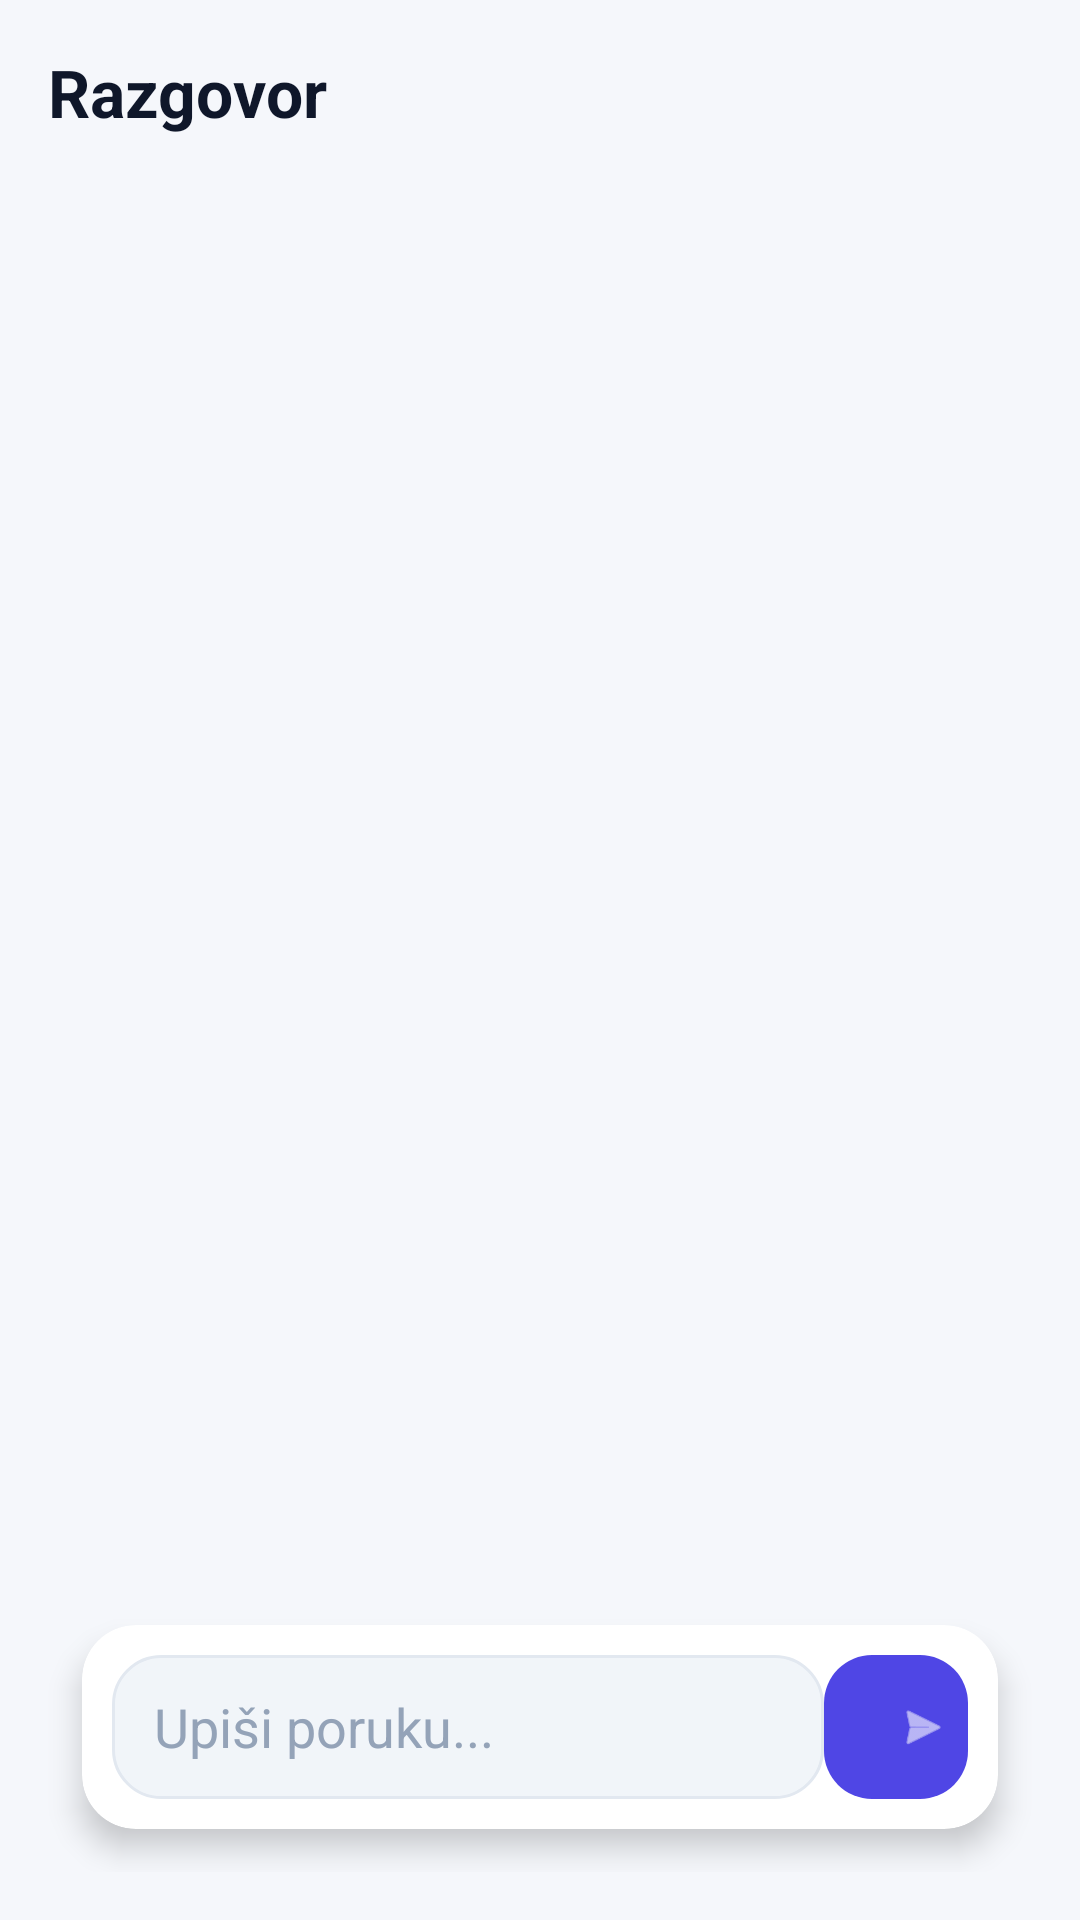

Where icons sit on this 1080 × 1920 app screen, as (x1, y1, x2, y2):
Pošalji: (824, 1655, 968, 1799)
